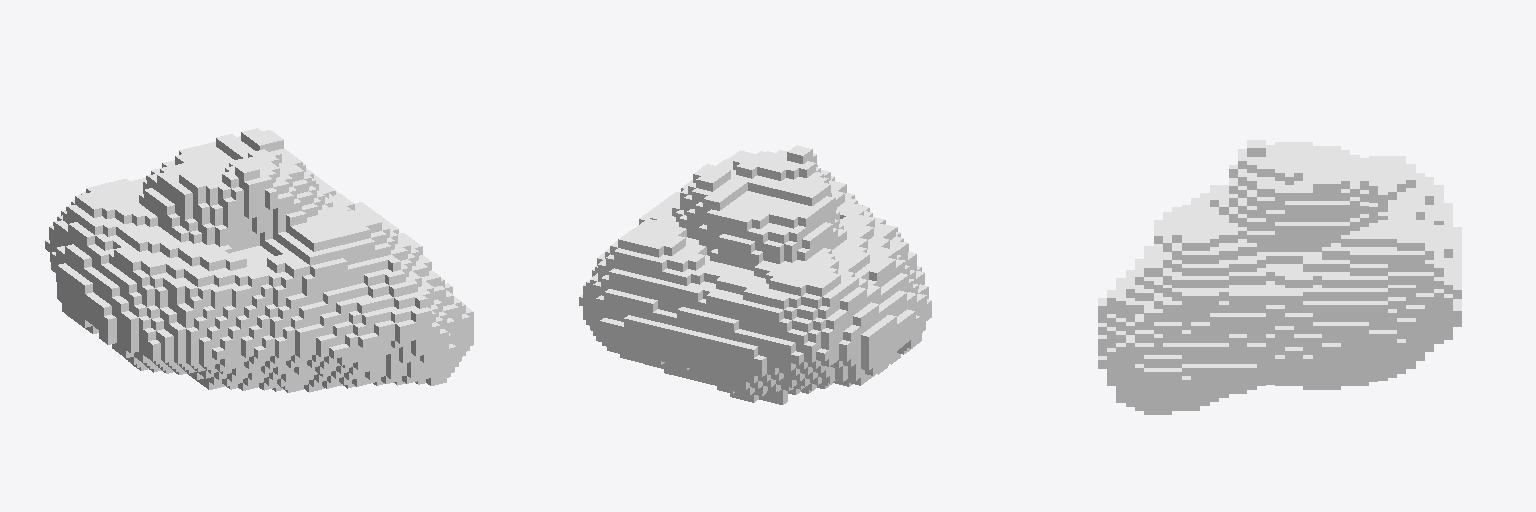
Rendered from rock-06.obj.
The picture shows the model from 3 angles: view 1: azimuth 30°, elevation 25°; view 2: azimuth 150°, elevation 25°; view 3: azimuth 270°, elevation 25°; orthographic projection.
Bounding box in the file's own units: 37 × 24 × 39.